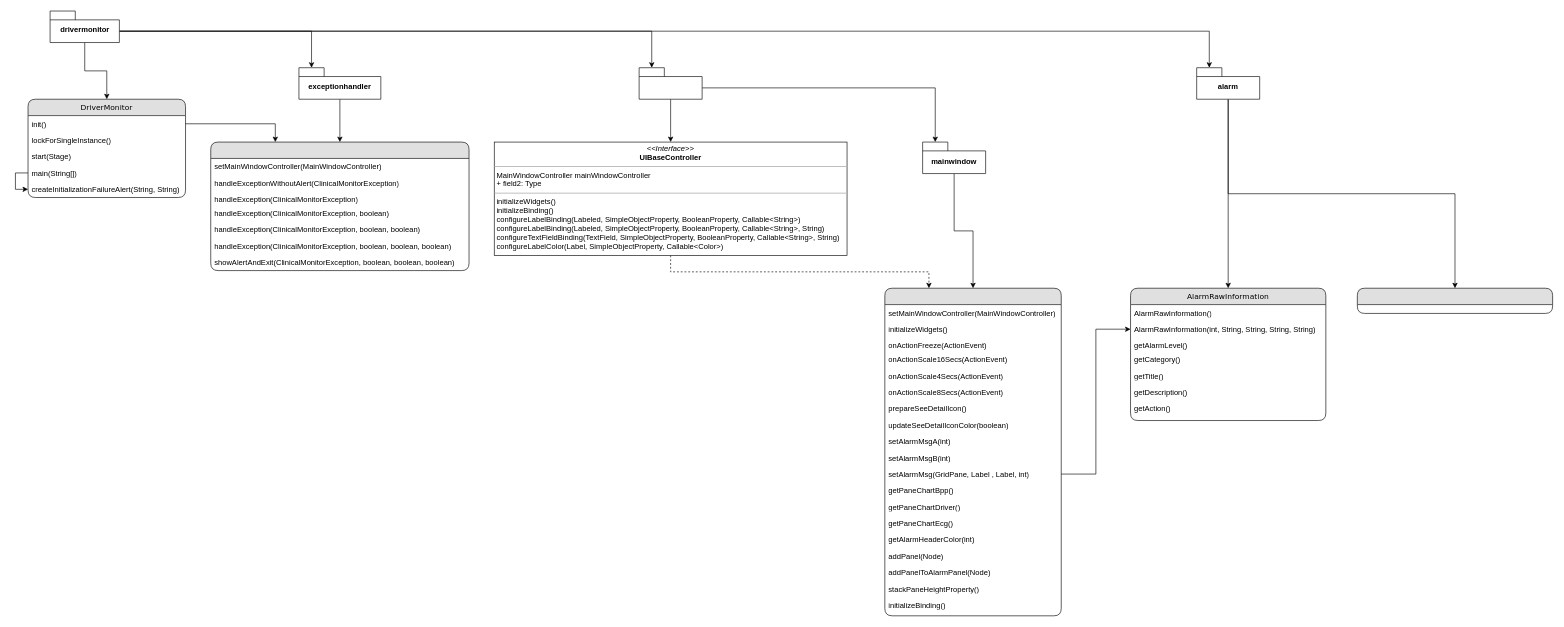
Image size: 1564x627. Some labels were removed from this diagram. The shapes that lost their labels are listed below. From the top down, each one's box as (x1, y1, x2, y2) in pixels, then its label:
(639, 67, 702, 99): userinterface
(210, 141, 469, 271): ClinicalMonitorExceptionHandler
(1357, 288, 1553, 313): AlarmUtils
(884, 288, 1061, 616): MainWindowCenterController
